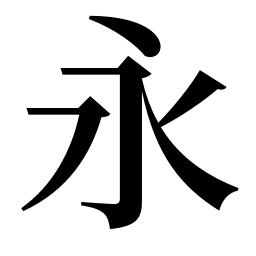D: (86, 11, 163, 54)
HSZ: (102, 57, 154, 90)
Hs: (58, 63, 97, 77)
Ne: (190, 166, 242, 214)
PNc: (147, 110, 178, 142)
PZe: (19, 187, 51, 212)
Ps: (183, 68, 228, 102)
SG: (79, 184, 149, 231)
Sm: (116, 137, 145, 172)
TPZ: (62, 94, 112, 149)
Ts: (23, 103, 48, 118)
